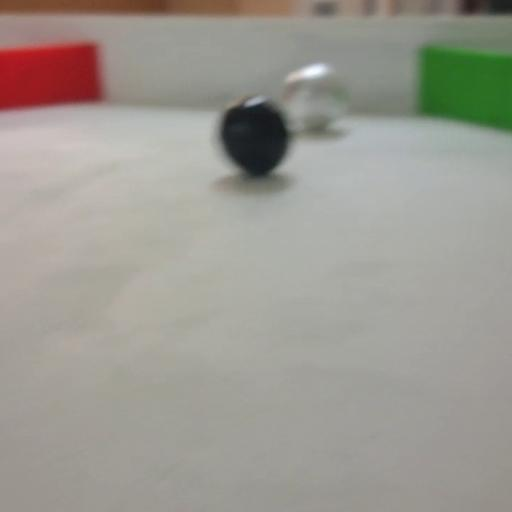alive: (281, 62, 353, 133)
dead: (216, 94, 293, 176)
